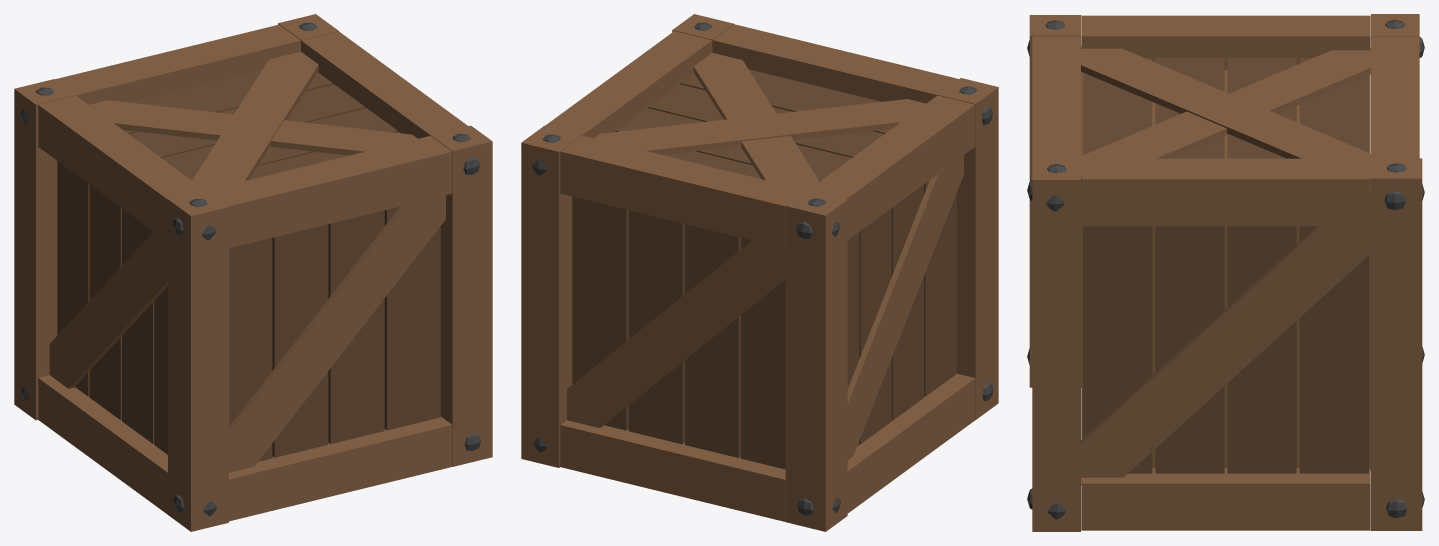
File: Ящик.fbx
3 renders of one model, left to right at view 1: azimuth 30°, elevation 25°; view 2: azimuth 150°, elevation 25°; view 3: azimuth 270°, elevation 25°, orthographic. The views are drawn at different scales.
Parts seen in each view (by area): view 1: Cube.025; view 2: Cube.025; view 3: Cube.025.
Part boxes in pixels (box(x1,y1,x2,y2)): Cube.025: box(14, 14, 492, 531); Cube.025: box(521, 14, 998, 531); Cube.025: box(1027, 14, 1424, 531).
Size of the model in its own units: 206 by 203 by 206.
